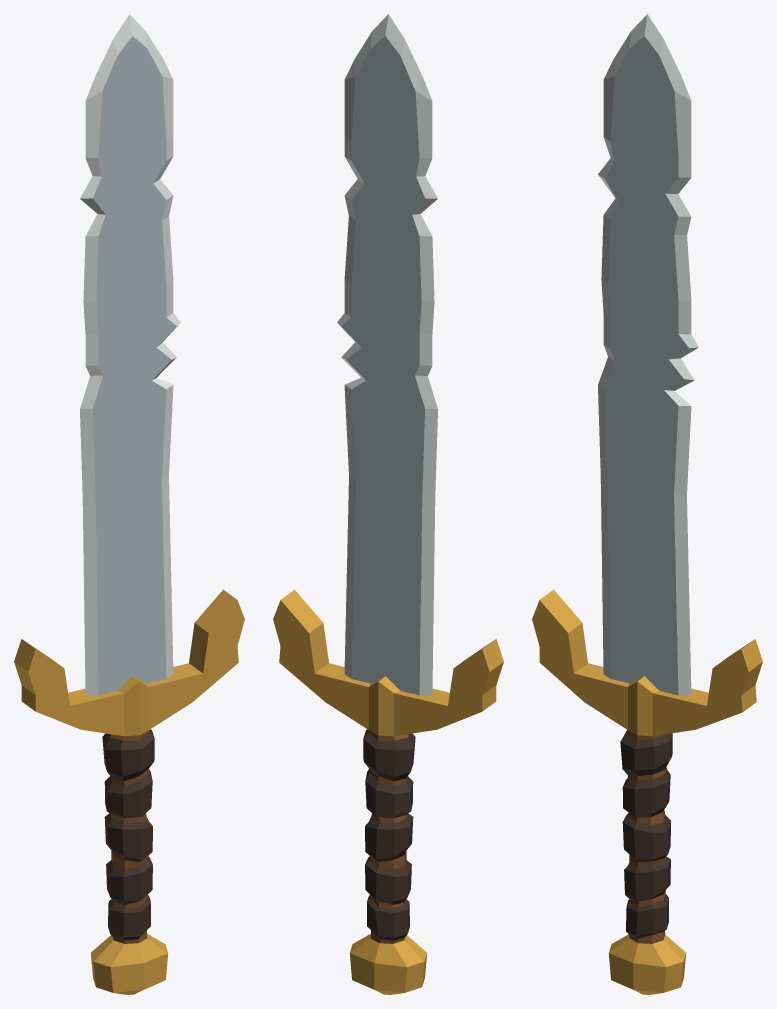
Rendered from sword.glb.
3 renders of one model, left to right at view 1: azimuth 30°, elevation 25°; view 2: azimuth 150°, elevation 25°; view 3: azimuth 330°, elevation 25°, orthographic.
Parts seen in each view (by area): view 1: Sword; view 2: Sword; view 3: Sword.
Part boxes in pixels (left/top/right/bottom): Sword: left=14, top=14, right=244, bottom=994; Sword: left=273, top=14, right=503, bottom=994; Sword: left=532, top=14, right=762, bottom=994.
Size of the model in its own units: 0.4642 by 2 by 0.1061.
